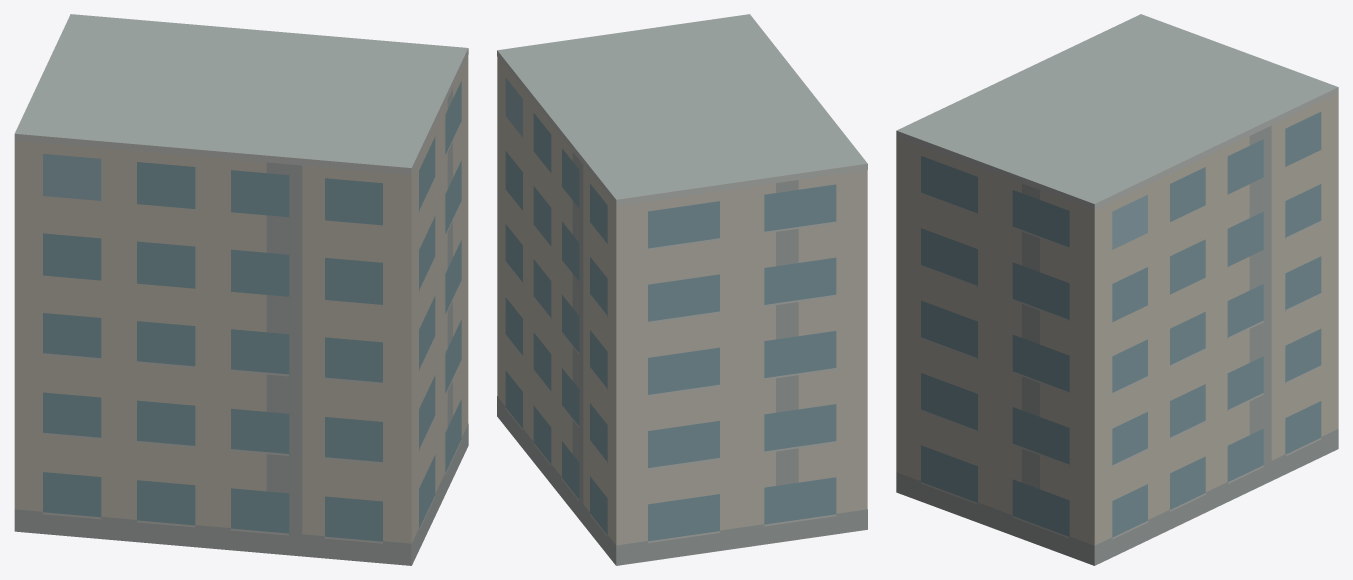
Rendered from survey-upis-33038354.glb.
3 views of the same model, side by side, from view 1: azimuth 30°, elevation 25°; view 2: azimuth 150°, elevation 25°; view 3: azimuth 270°, elevation 25° (orthographic). The views are drawn at different scales.
Parts seen in each view (by area): view 1: survey-upis-33038354.tmp; view 2: survey-upis-33038354.tmp; view 3: survey-upis-33038354.tmp.
Boxes of the visible parts, x1=… form: survey-upis-33038354.tmp: x1=14, y1=14, x2=468, y2=565; survey-upis-33038354.tmp: x1=497, y1=14, x2=867, y2=565; survey-upis-33038354.tmp: x1=896, y1=14, x2=1338, y2=565.
Bounding box in the file's own units: 15.84 × 14.05 × 15.57.
